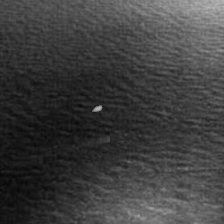Target: (91, 105, 103, 112)
